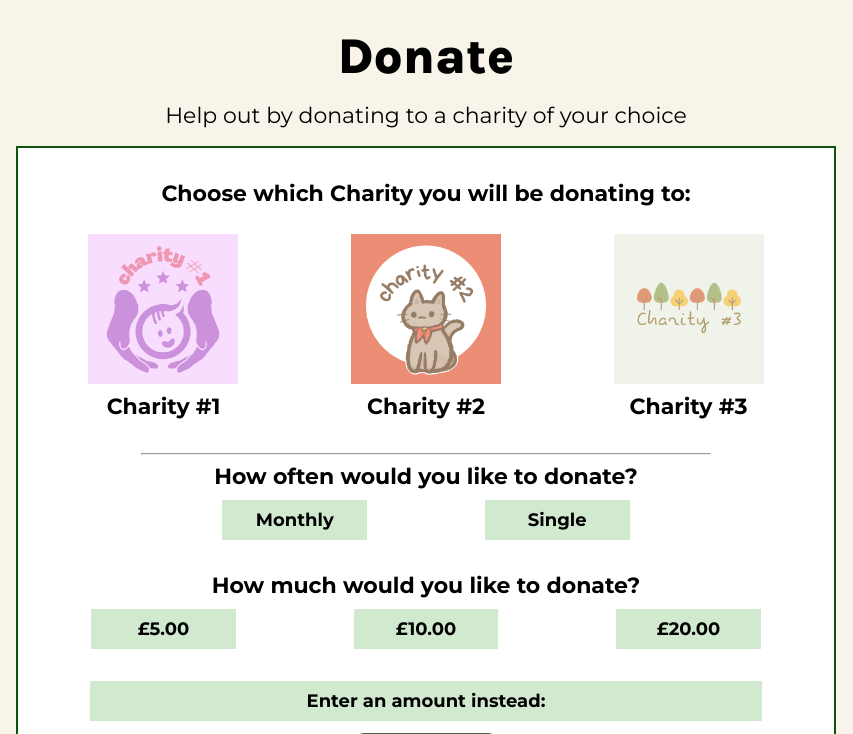
Test case: should return an error if the user hasn't selected the frequency of a donation
Click the radio button labelled "Charity #1": (163, 327) [88,234,238,420]
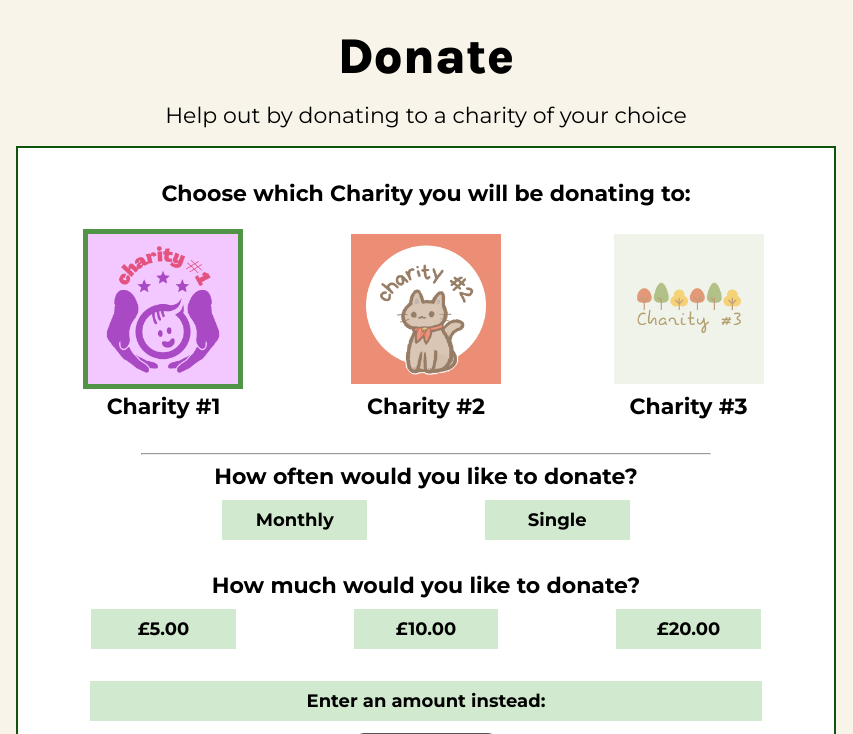
Click the radio button labelled "£5.00": (163, 629) [91,609,236,649]
(page scrolled)
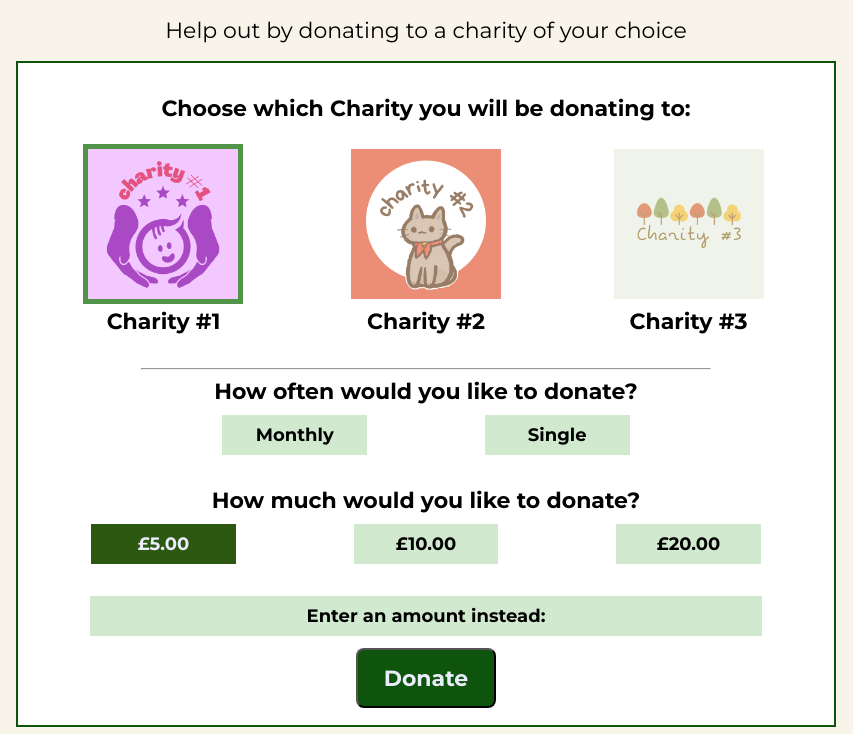
Submit the form from the button "Donate", box [356,648,496,708]
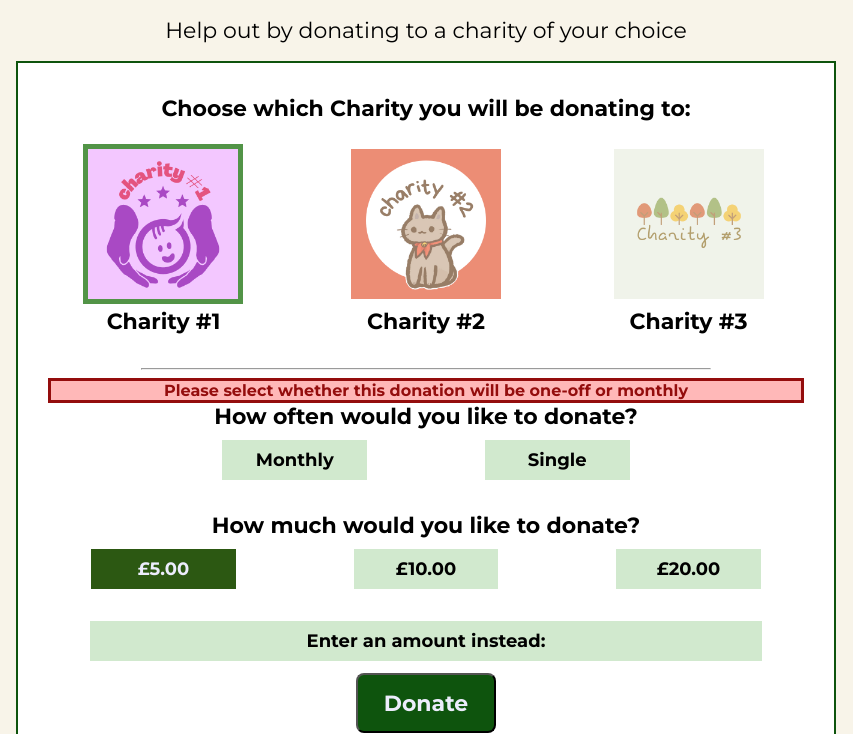
Check: the text "Please select whether this donation will be one-off or monthly" is shown, box [48,378,804,403]
